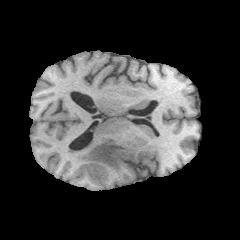glioma: (67, 138, 123, 169)
